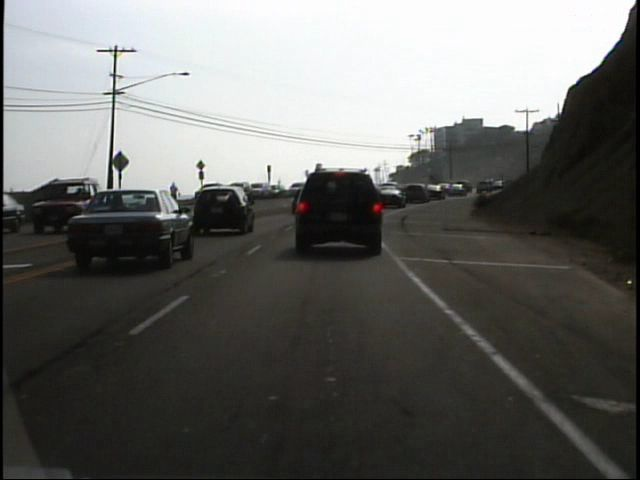person: (166, 180, 183, 208)
